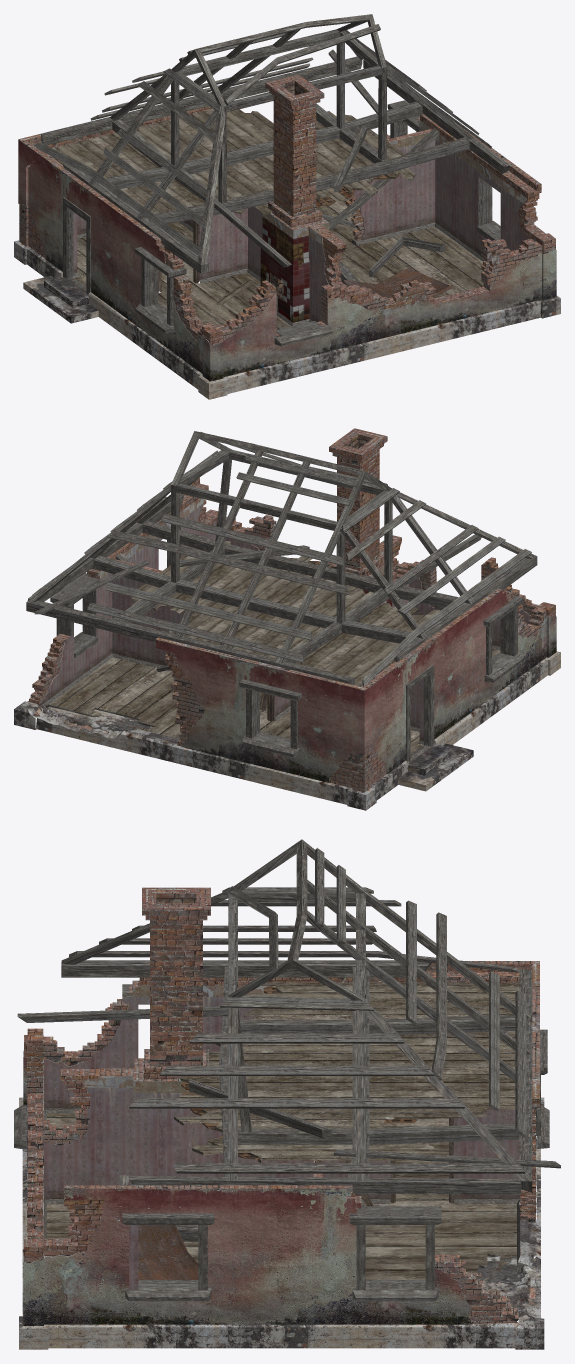
The picture shows the model from 3 angles, top to bottom: view 1: azimuth 30°, elevation 25°; view 2: azimuth 150°, elevation 25°; view 3: azimuth 270°, elevation 25°; orthographic projection. The views are drawn at different scales.
Parts seen in each view (by area): view 1: default/wood\wood_board_01.dds.002; view 2: default/wood\wood_board_01.dds.002; view 3: default/wood\wood_board_01.dds.002.
Boxes of the visible parts, left/top/right/bottom form: default/wood\wood_board_01.dds.002: left=14, top=14, right=560, bottom=399; default/wood\wood_board_01.dds.002: left=14, top=428, right=560, bottom=810; default/wood\wood_board_01.dds.002: left=14, top=839, right=560, bottom=1349.
Size of the model in its own units: 12.14 by 7.92 by 11.23.
Materials: 22 (22 with a texture image).
